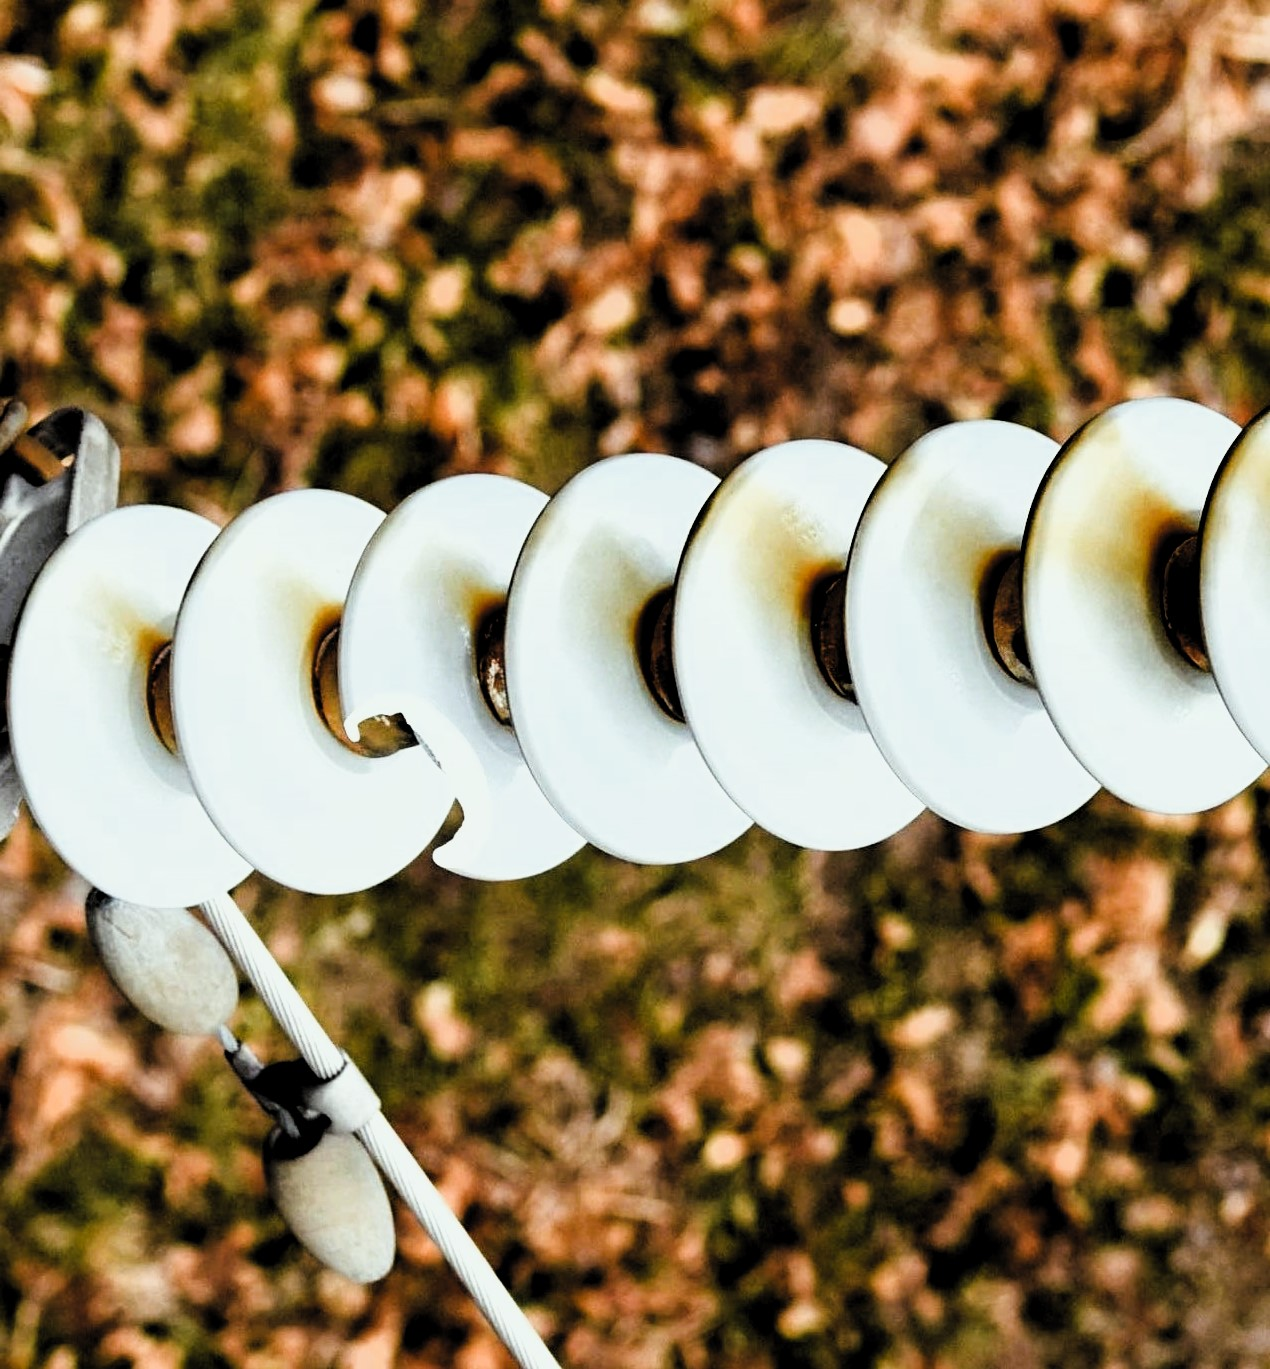insulator breakage: (323, 473, 580, 902)
